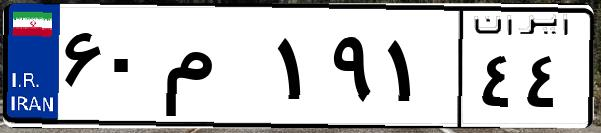0: (110, 28, 158, 98)
1: (270, 28, 330, 110), (385, 28, 445, 110)
4: (475, 38, 525, 113), (525, 38, 570, 115)
6: (57, 26, 110, 100)
9: (330, 28, 385, 110)
م: (158, 20, 270, 120)
